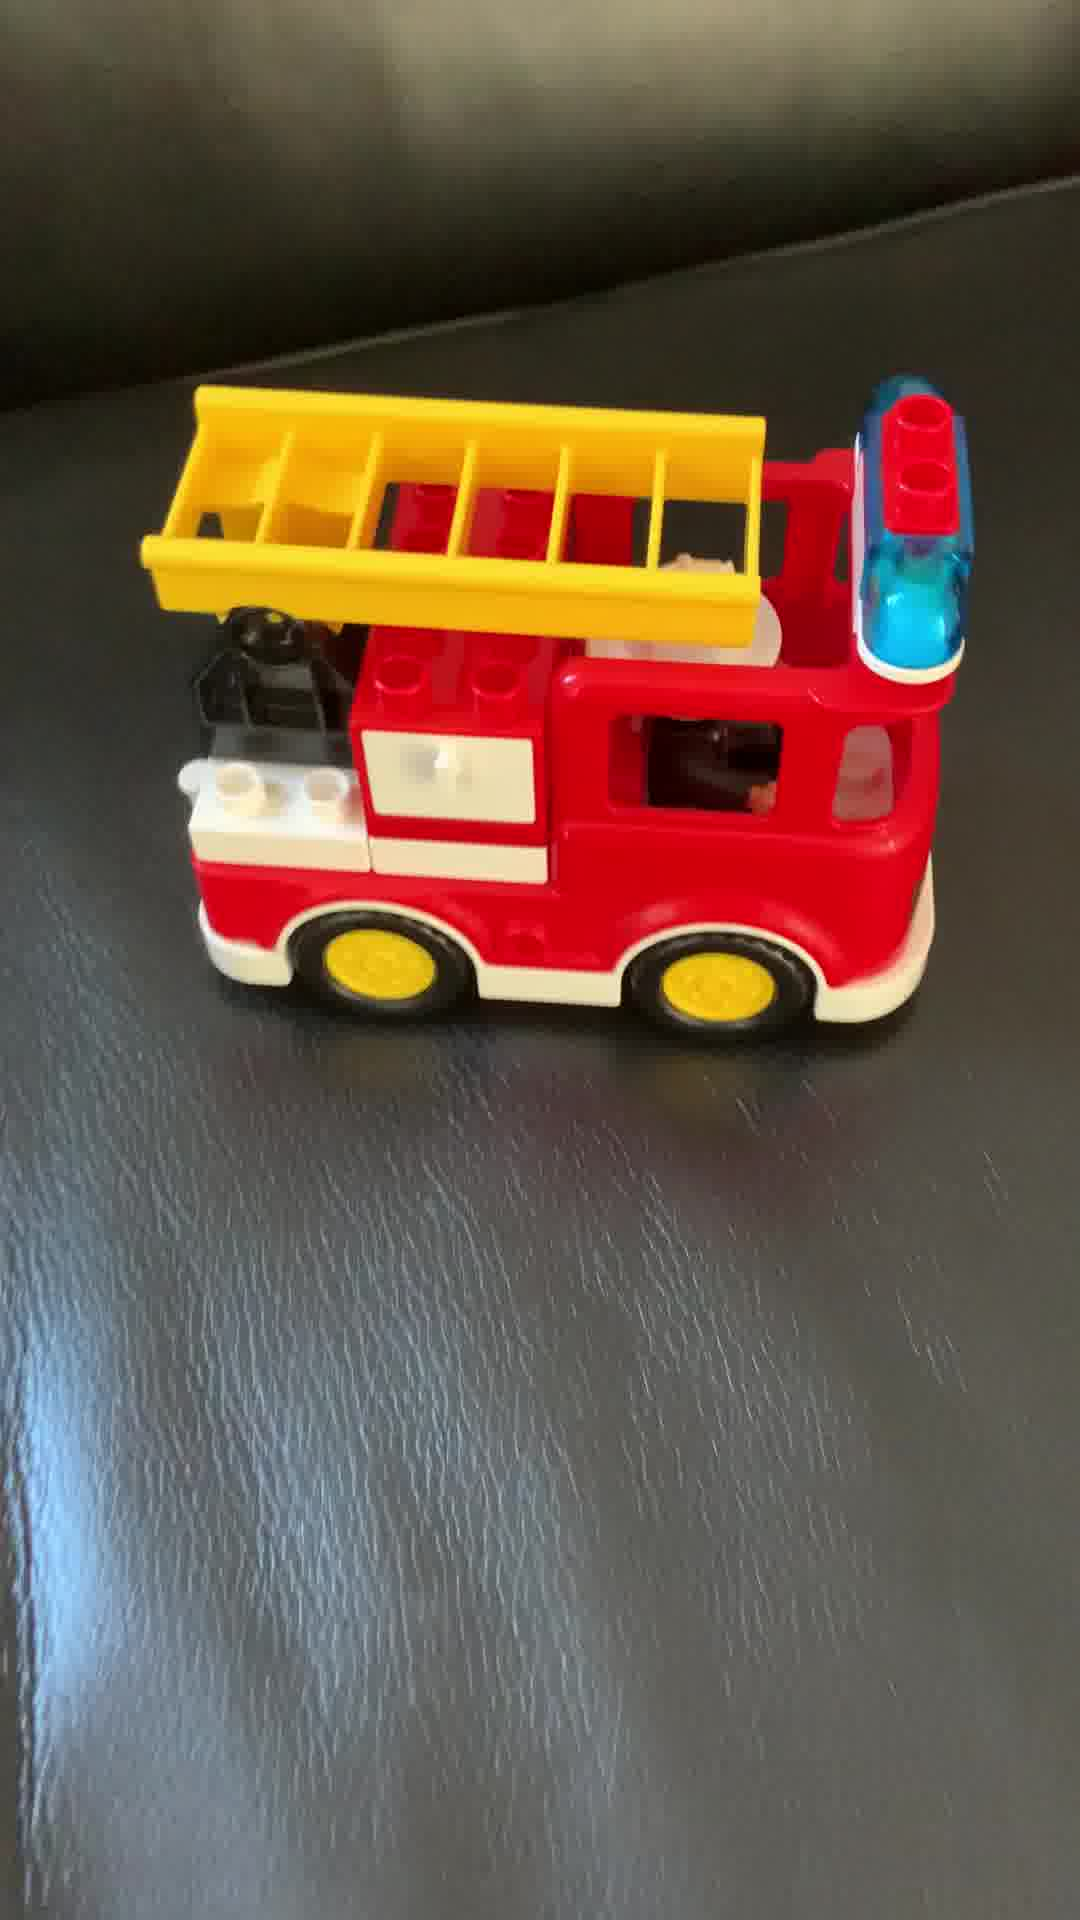lego fire truck: (135, 371, 990, 1051)
